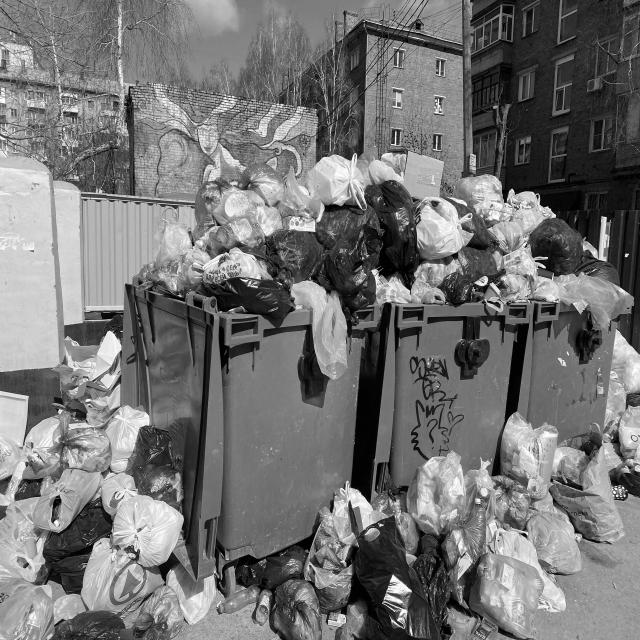Trashcan: (117, 212, 388, 560), (341, 165, 521, 533), (472, 185, 636, 494)
